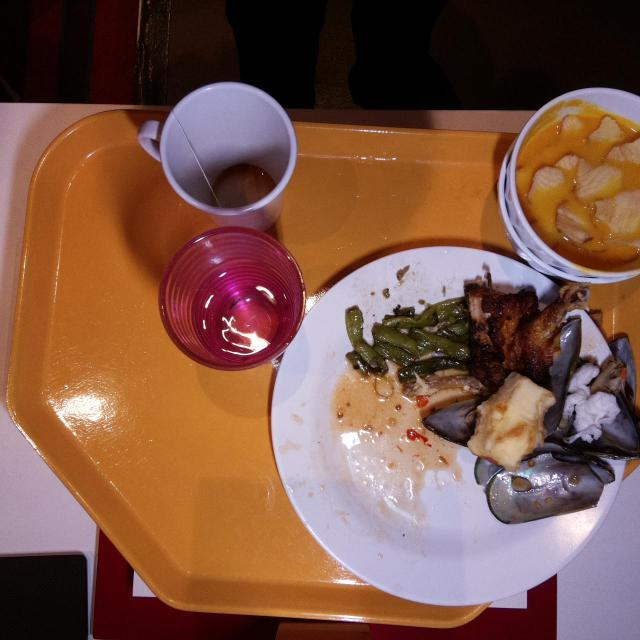Apple-core: (466, 370, 556, 476)
Bone: (544, 282, 592, 328), (589, 355, 627, 395)
Meat: (464, 284, 548, 389)
Mussel-shell: (543, 314, 639, 464), (472, 452, 616, 526), (422, 392, 565, 452)
Vegetable: (344, 301, 471, 374)
